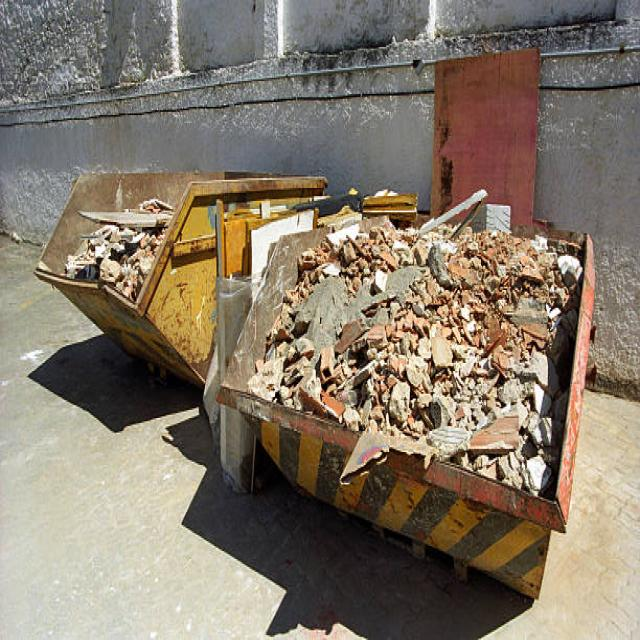trash: (34, 202, 591, 438)
